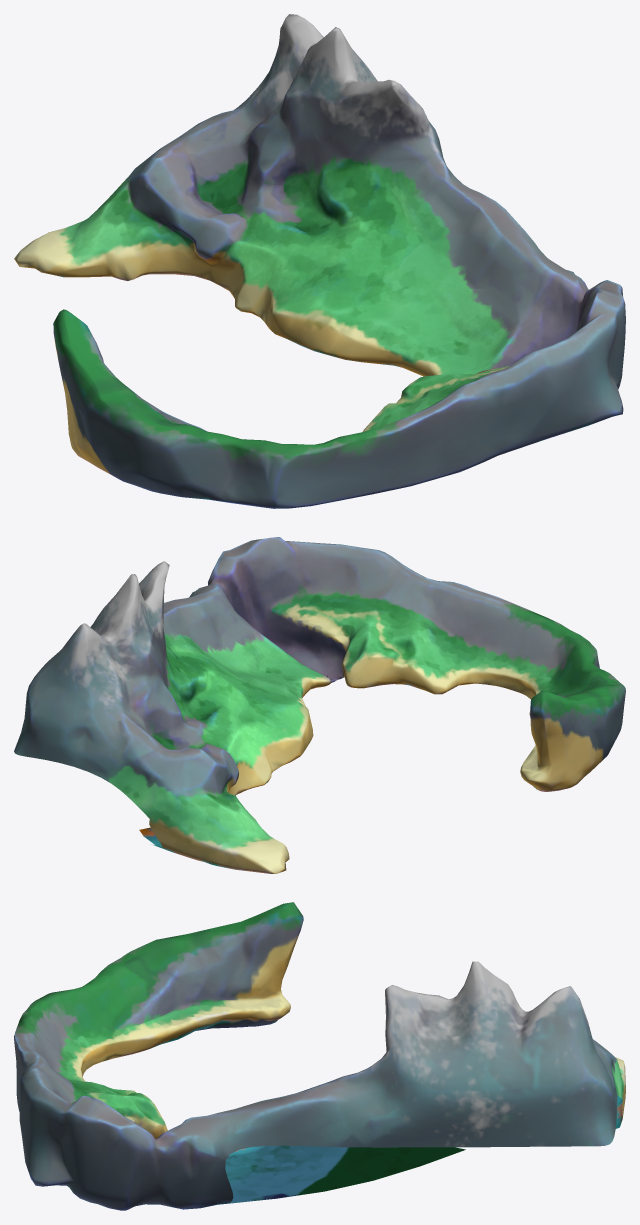
File: spinomountain.glb
3 renders of one model, top to bottom at view 1: azimuth 30°, elevation 25°; view 2: azimuth 150°, elevation 25°; view 3: azimuth 270°, elevation 25°, orthographic. The views are drawn at different scales.
Visible parts, largest first — view 1: spinomountain; view 2: spinomountain; view 3: spinomountain.
Boxes of the visible parts, x1,y1,x2,y2 form: spinomountain: [14, 14, 625, 508]; spinomountain: [14, 537, 625, 873]; spinomountain: [14, 902, 625, 1210].
Size of the model in its own units: 277 by 131 by 325.
1 material, 1 textured.
